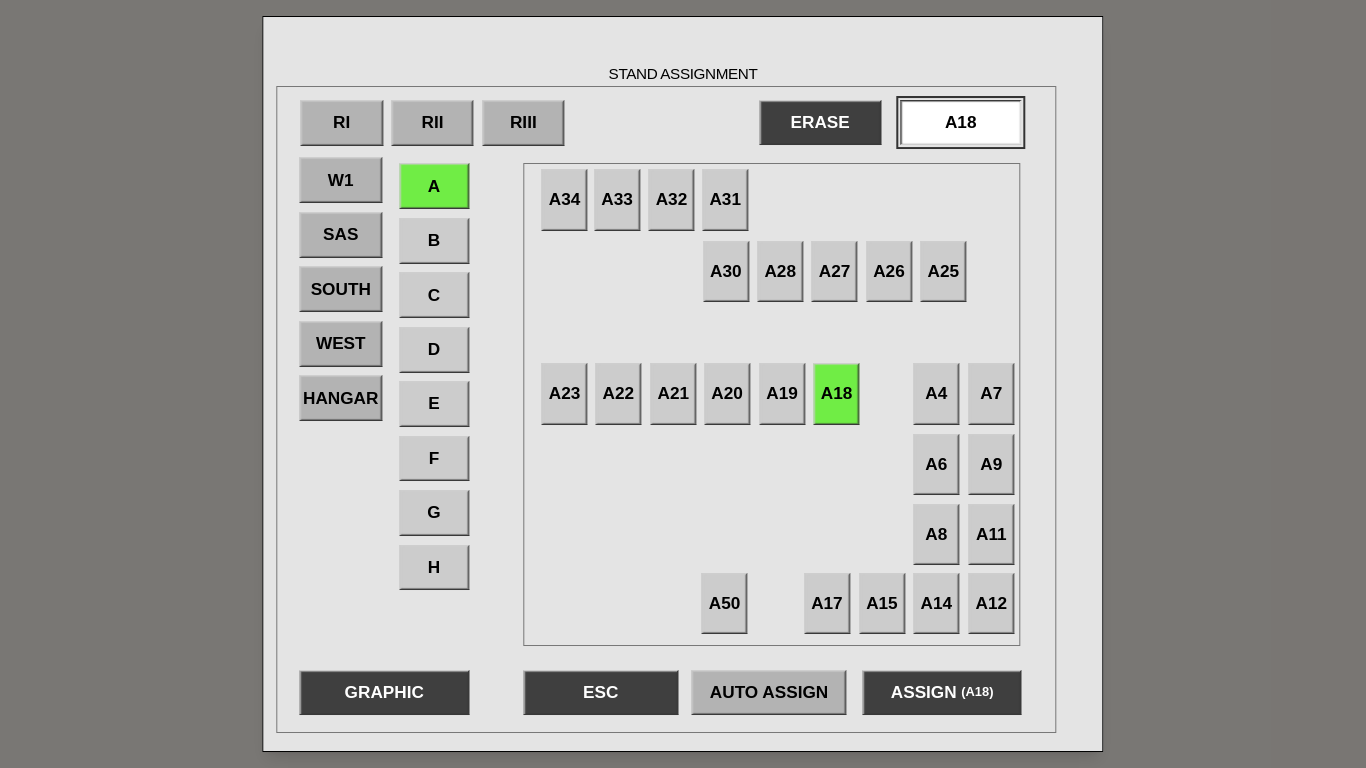
Test: arrival stand assignment dialog › reports timeline fetch errors instead of displaying an empty success
This screenshot has width=1366, height=768.
Click the button "GRAPHIC" at [384, 692], box x1=300 y1=670 x2=469 y2=715
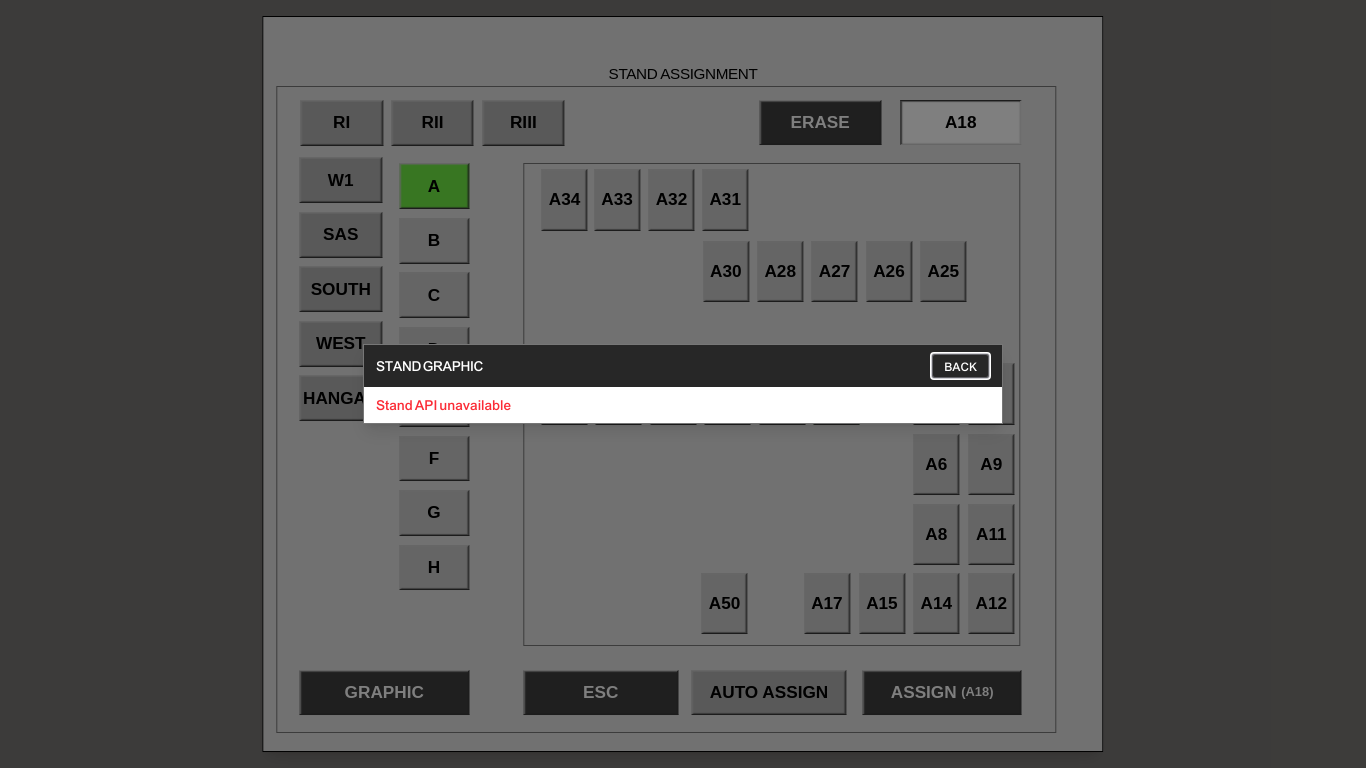
Now the message reads "Stand API unavailable", box x1=376 y1=396 x2=511 y2=413
